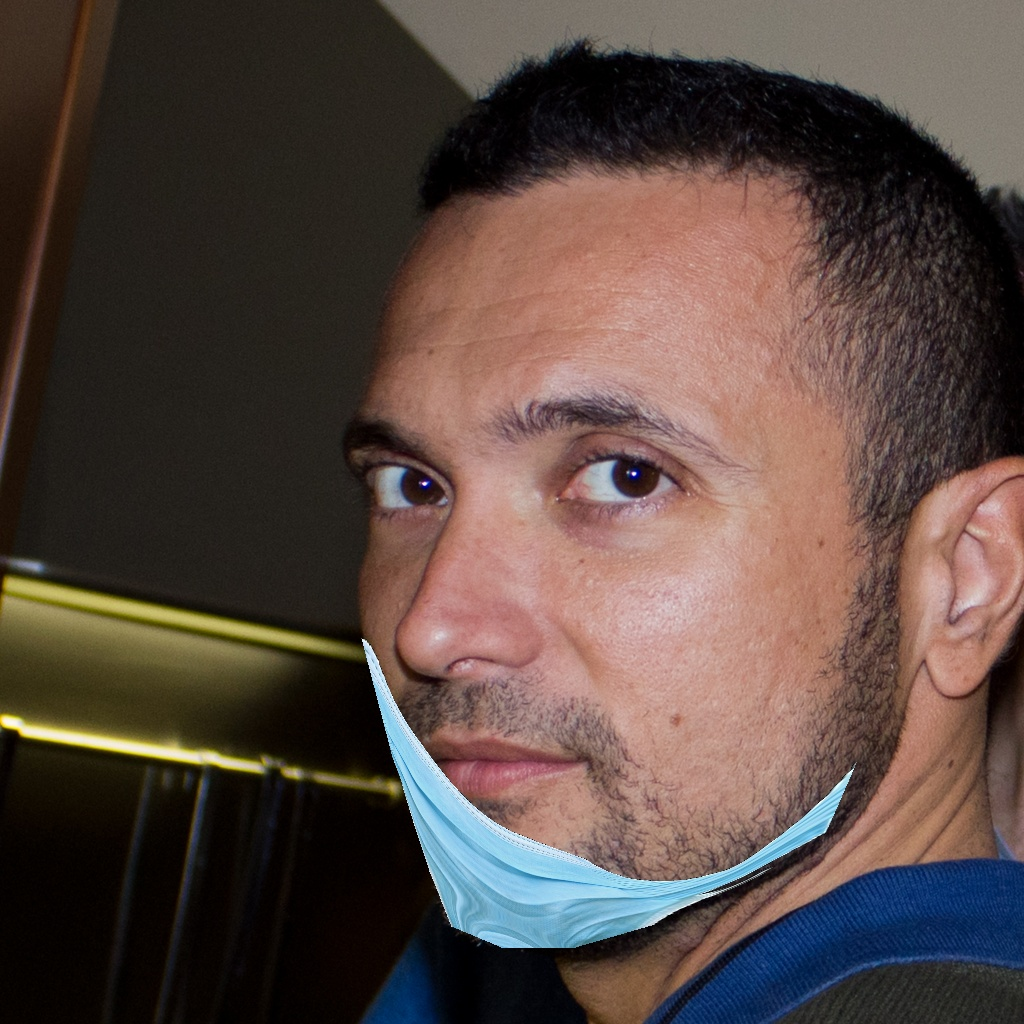mascarilla_mal_puesta: (357, 368, 857, 943)
